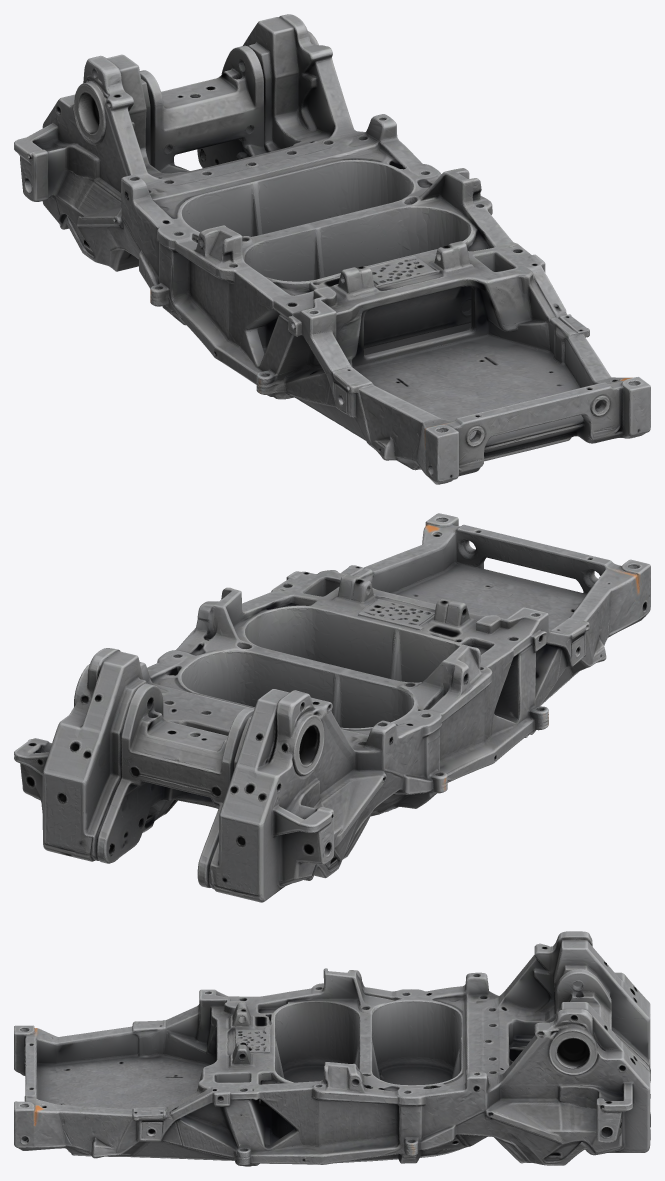
File: castR.glb
3 renders of one model, top to bottom at view 1: azimuth 30°, elevation 25°; view 2: azimuth 150°, elevation 25°; view 3: azimuth 270°, elevation 25°, orthographic. The views are drawn at different scales.
Size of the model in its own units: 0.446 by 0.2537 by 1.
Materials: 1 (1 with a texture image).
